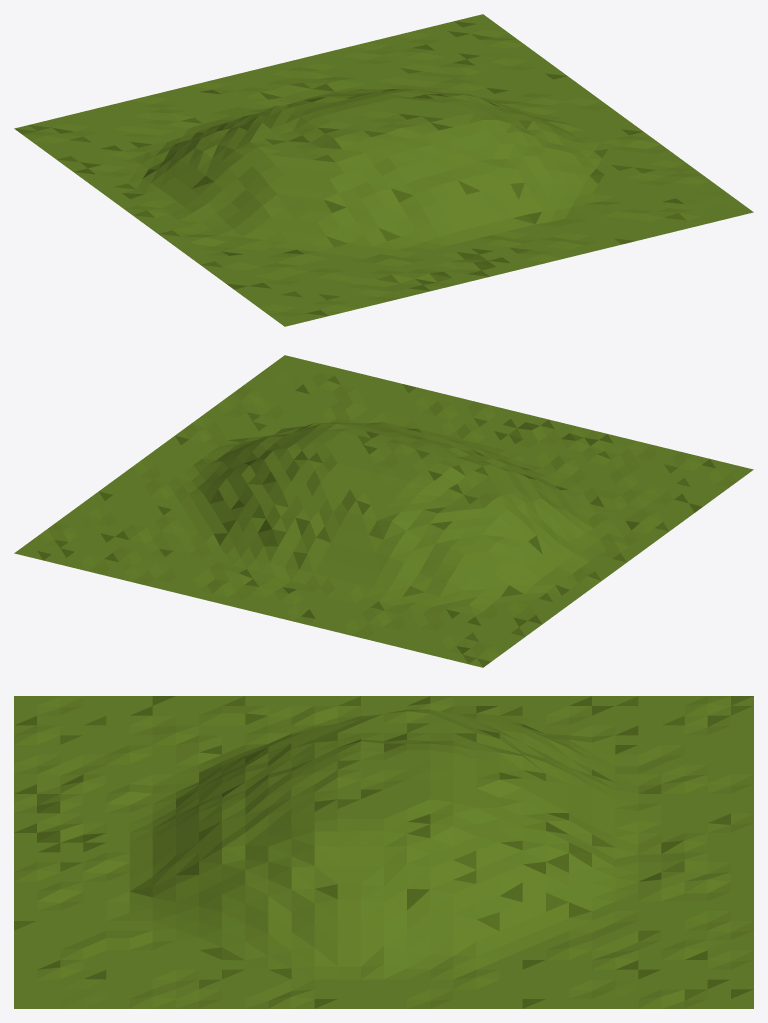
Rendered from mesh_terrain_small_04.fbx.
3 renders of one model, top to bottom at view 1: azimuth 30°, elevation 25°; view 2: azimuth 150°, elevation 25°; view 3: azimuth 270°, elevation 25°, orthographic. The views are drawn at different scales.
Visible parts, largest first — view 1: mesh_terrain_small_04; view 2: mesh_terrain_small_04; view 3: mesh_terrain_small_04.
Boxes of the visible parts, bbox=[...] form: mesh_terrain_small_04: bbox=[14, 14, 753, 326]; mesh_terrain_small_04: bbox=[14, 355, 753, 667]; mesh_terrain_small_04: bbox=[14, 696, 753, 1008].
Bounding box in the file's own units: 20 × 2.29 × 20.
